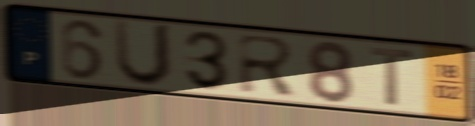3: (182, 30, 231, 93)
6: (59, 16, 106, 82)
8: (304, 38, 357, 105)
R: (235, 31, 302, 98)
T: (368, 46, 417, 109)
U: (111, 17, 175, 90)
